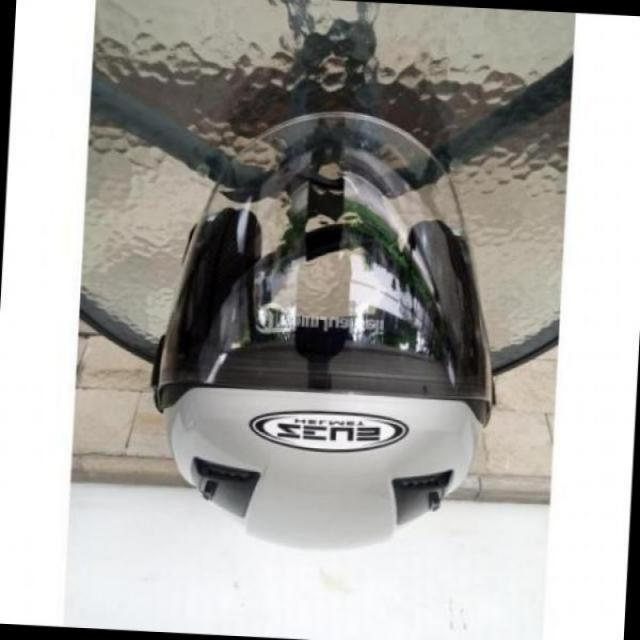Helmet: (80, 0, 507, 555)
